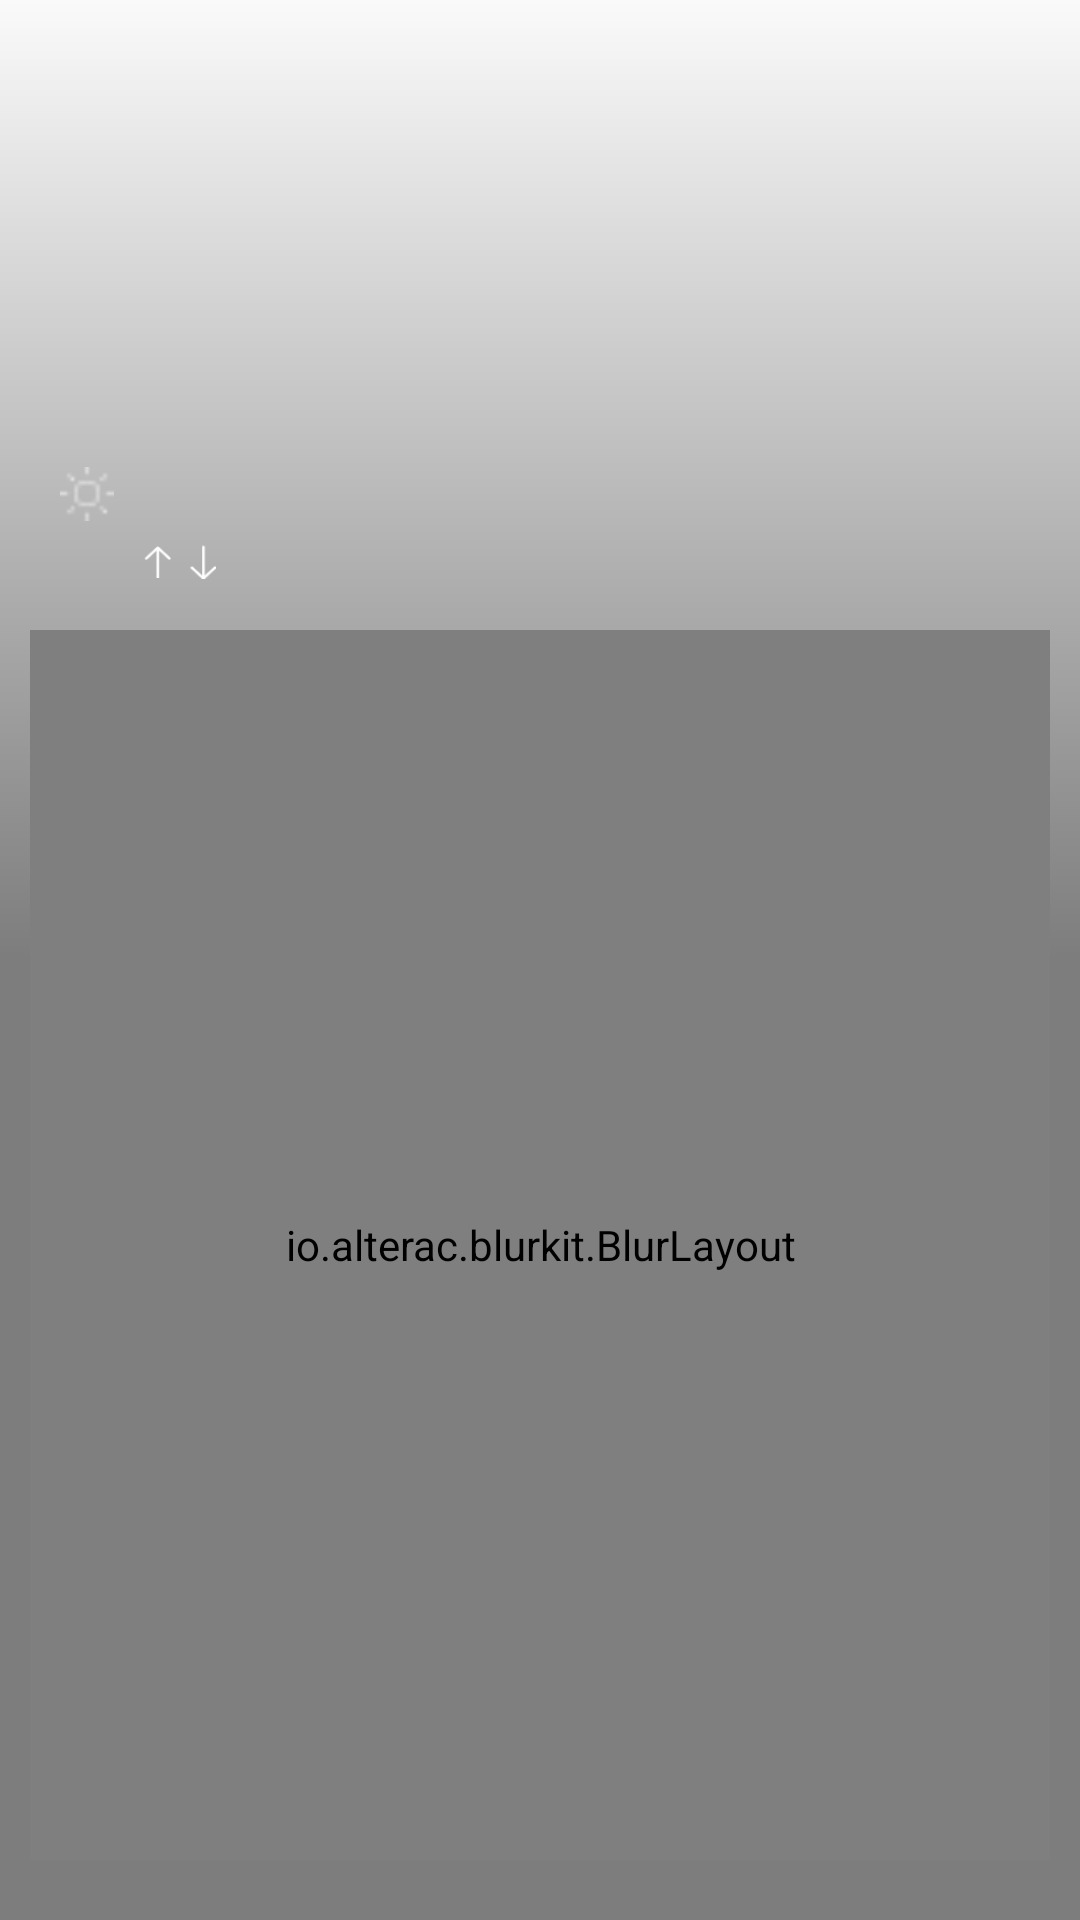

Screen size 1080px×1920px. Icon name, then its box in pixels as (x1, y1, x2, y2):
arrow down: (190, 546, 216, 579)
arrow up: (145, 546, 171, 578)
sun little: (60, 467, 114, 517)
